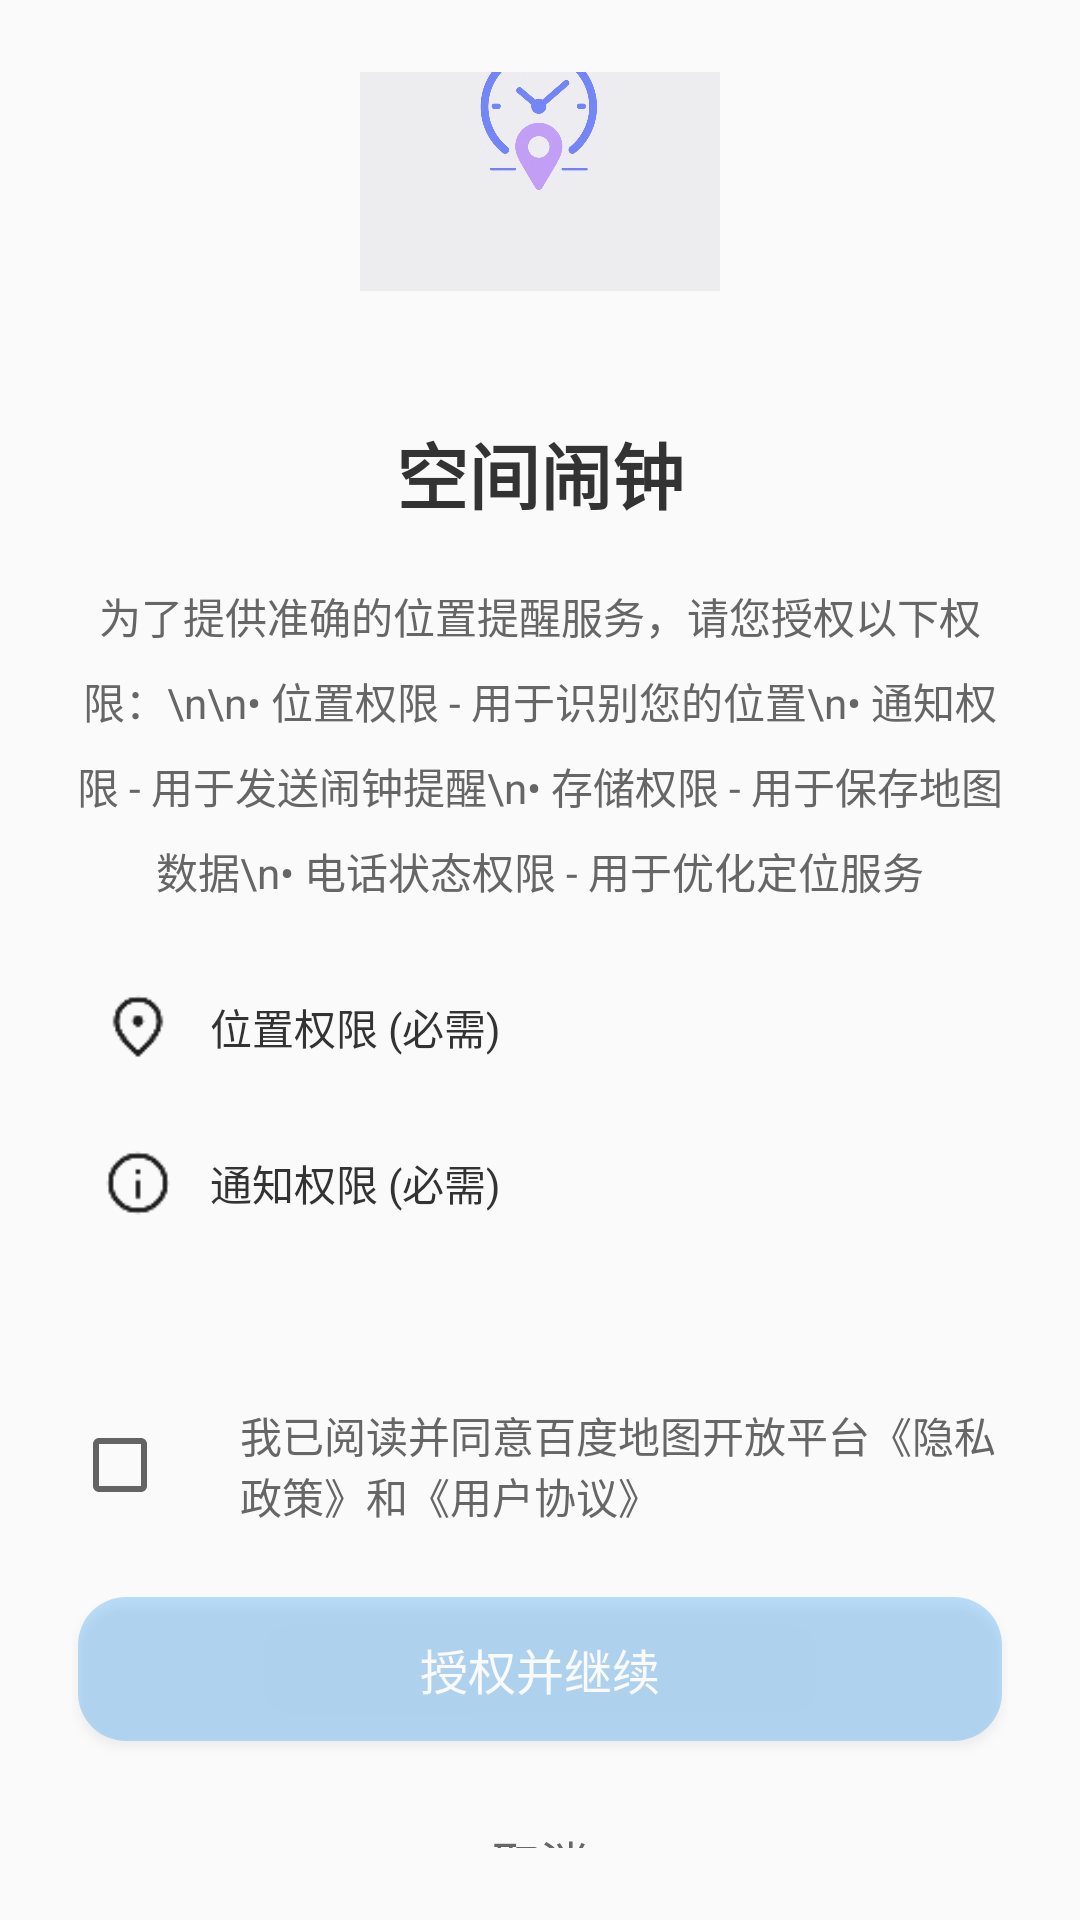

Icon bounding boxes for this 1080x1920 phone screenshot, format {"left": x1, "top": y1, "right": x2, "bottom": y2}:
locate: {"left": 112, "top": 997, "right": 164, "bottom": 1057}
